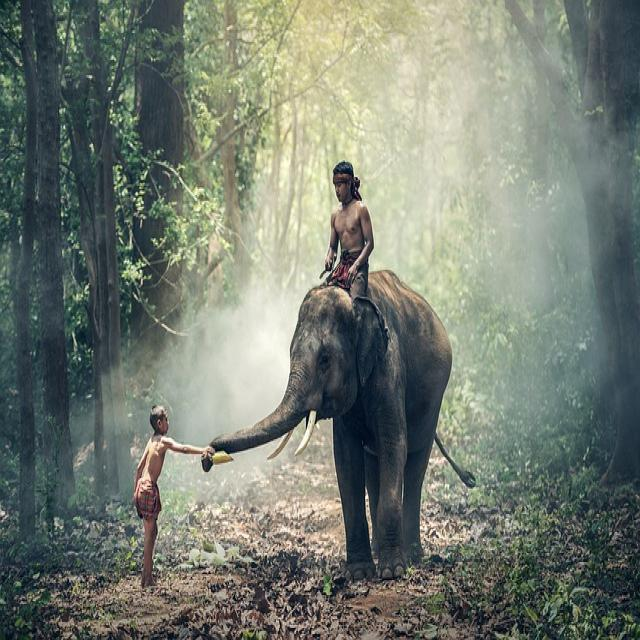elephant: (211, 272, 451, 579)
